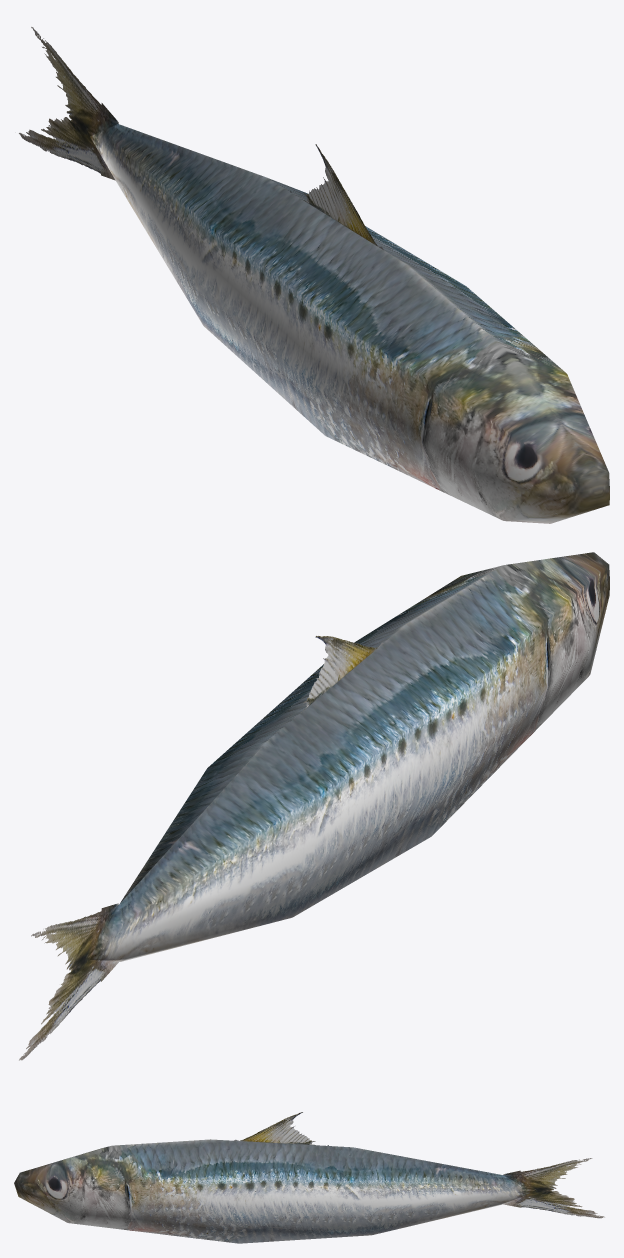
File: boidModel.glb
3 views of the same model, one above another, from view 1: azimuth 30°, elevation 25°; view 2: azimuth 150°, elevation 25°; view 3: azimuth 270°, elevation 25° (orthographic). The views are drawn at different scales.
Visible parts, largest first — view 1: Cube; view 2: Cube; view 3: Cube.
Boxes of the visible parts, x1,y1,x2,y2 form: Cube: [19, 27, 609, 523]; Cube: [19, 552, 609, 1060]; Cube: [14, 1112, 604, 1243].
Size of the model in its own units: 0.0688 by 0.1175 by 0.4854.
1 material, 1 textured.
